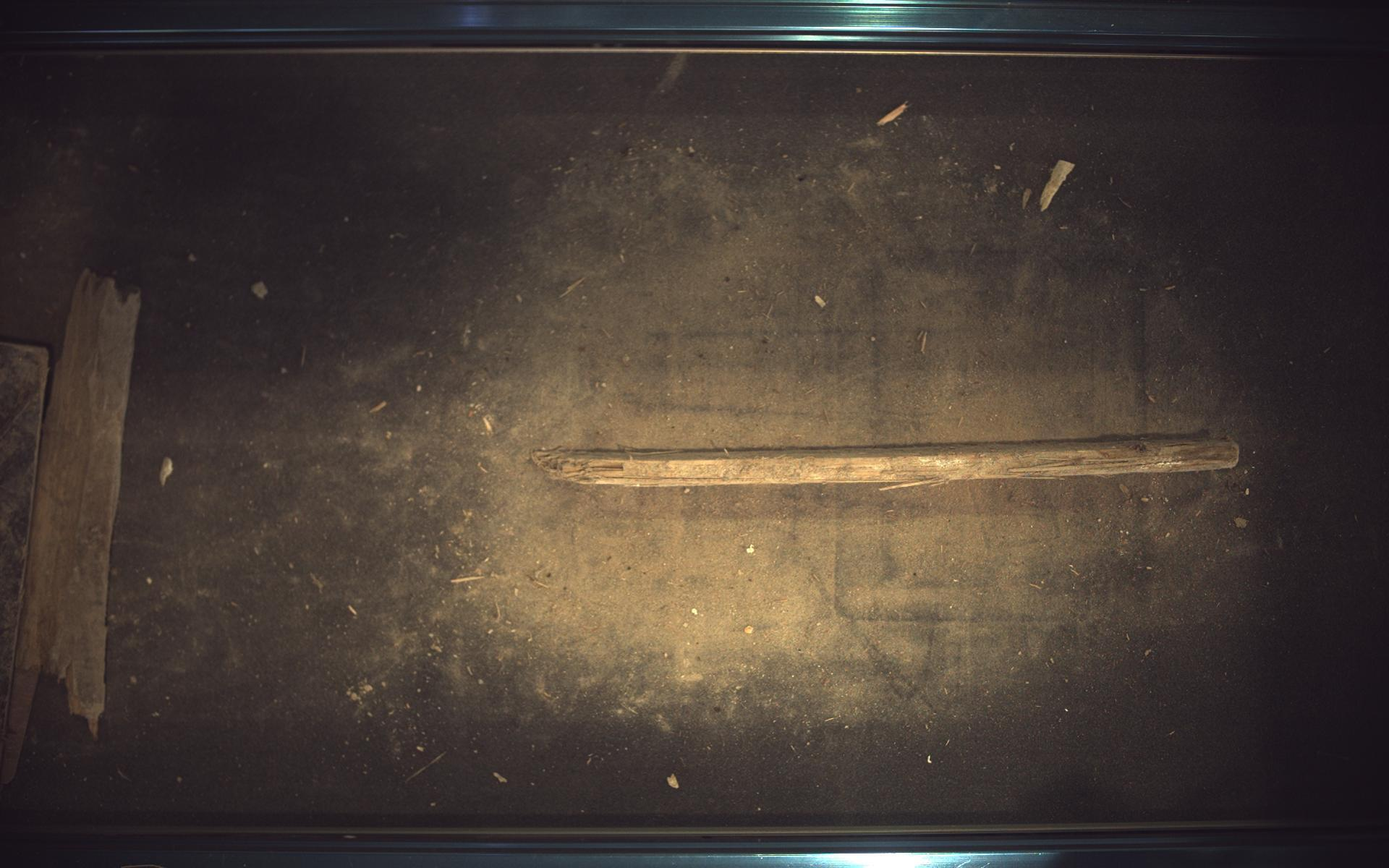wood: (532, 435, 1242, 491)
